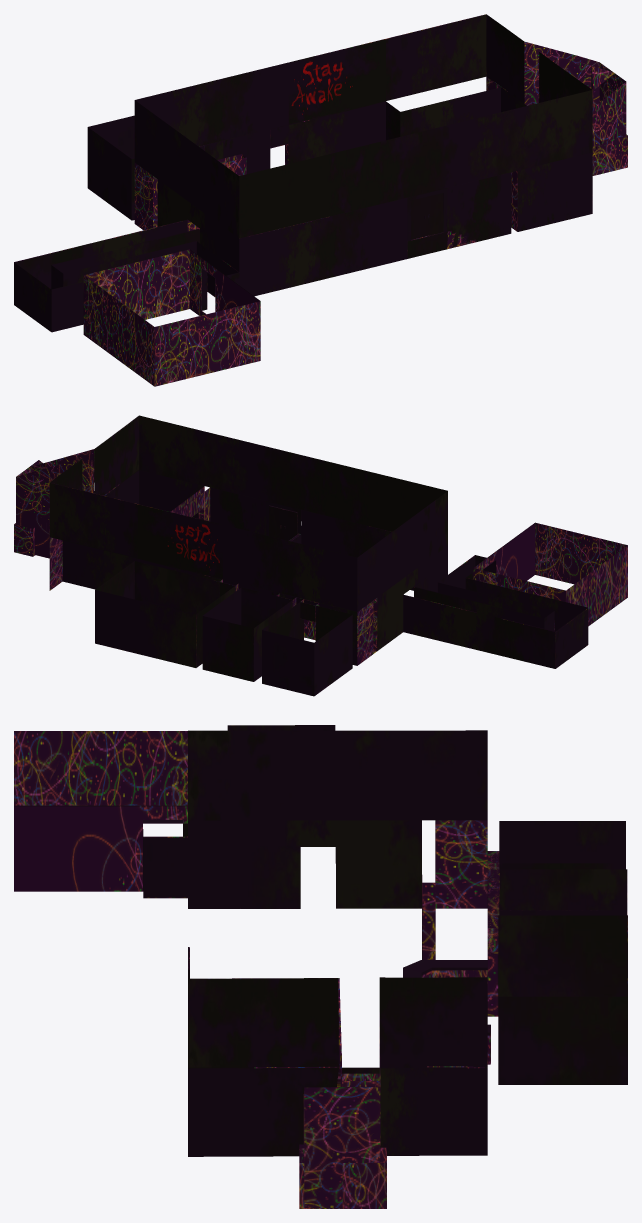
Rendered from paredes-solo.fbx.
3 renders of one model, top to bottom at view 1: azimuth 30°, elevation 25°; view 2: azimuth 150°, elevation 25°; view 3: azimuth 270°, elevation 25°, orthographic. The views are drawn at different scales.
Parts seen in each view (by area): view 1: Cube.097; view 2: Cube.097; view 3: Cube.097.
Part boxes in pixels (x1,y1,x2,y2): Cube.097: [14, 14, 627, 386]; Cube.097: [14, 415, 627, 696]; Cube.097: [14, 725, 627, 1208].
Bounding box in the file's own units: 3252 × 676 × 1999.
